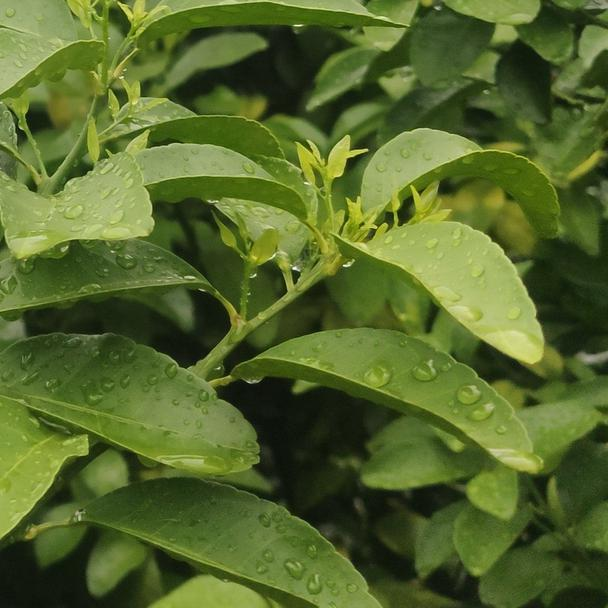shoot: (212, 211, 278, 292), (301, 135, 354, 200)
